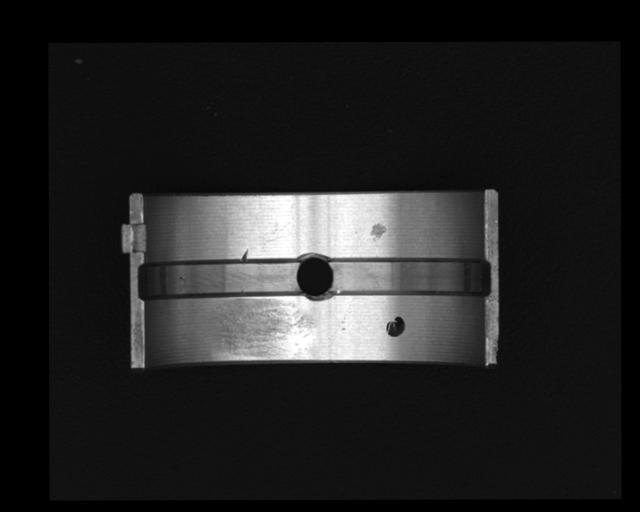blot: (385, 316, 405, 339)
bruise: (368, 221, 387, 241), (241, 248, 249, 260)
gap: (137, 256, 303, 300), (328, 257, 490, 298)
hole: (296, 253, 335, 301)
scratch: (213, 298, 318, 359)
